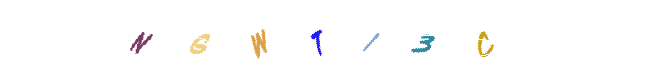1: (283, 0, 363, 80)
3: (310, 0, 390, 80)
C: (385, 0, 465, 80)
G: (208, 0, 288, 80)
N: (100, 0, 180, 80)
T: (277, 0, 357, 80)
W: (276, 0, 356, 80)
